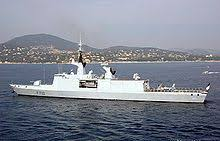tau_muctieu: (12, 60, 209, 106)
